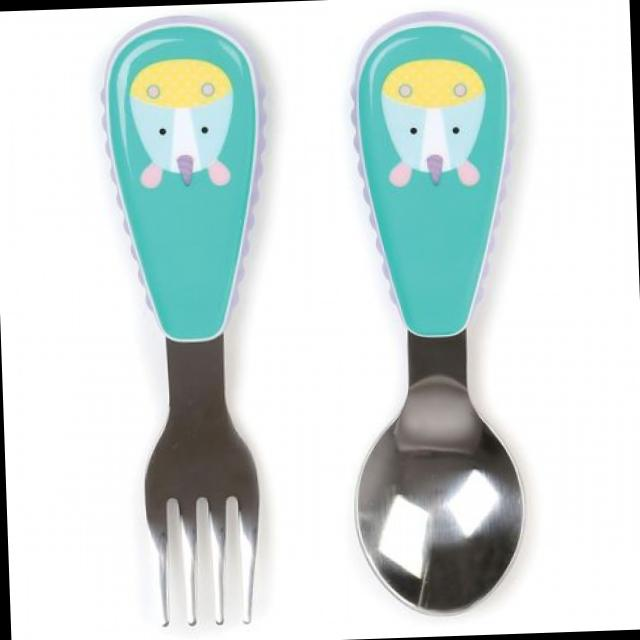fork: (87, 11, 300, 636)
spoon: (324, 0, 548, 626)
